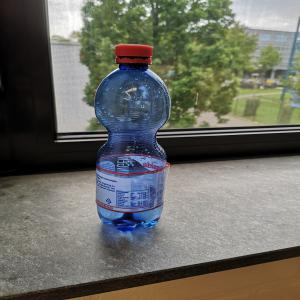Plastic-bottle: (94, 44, 174, 235)
